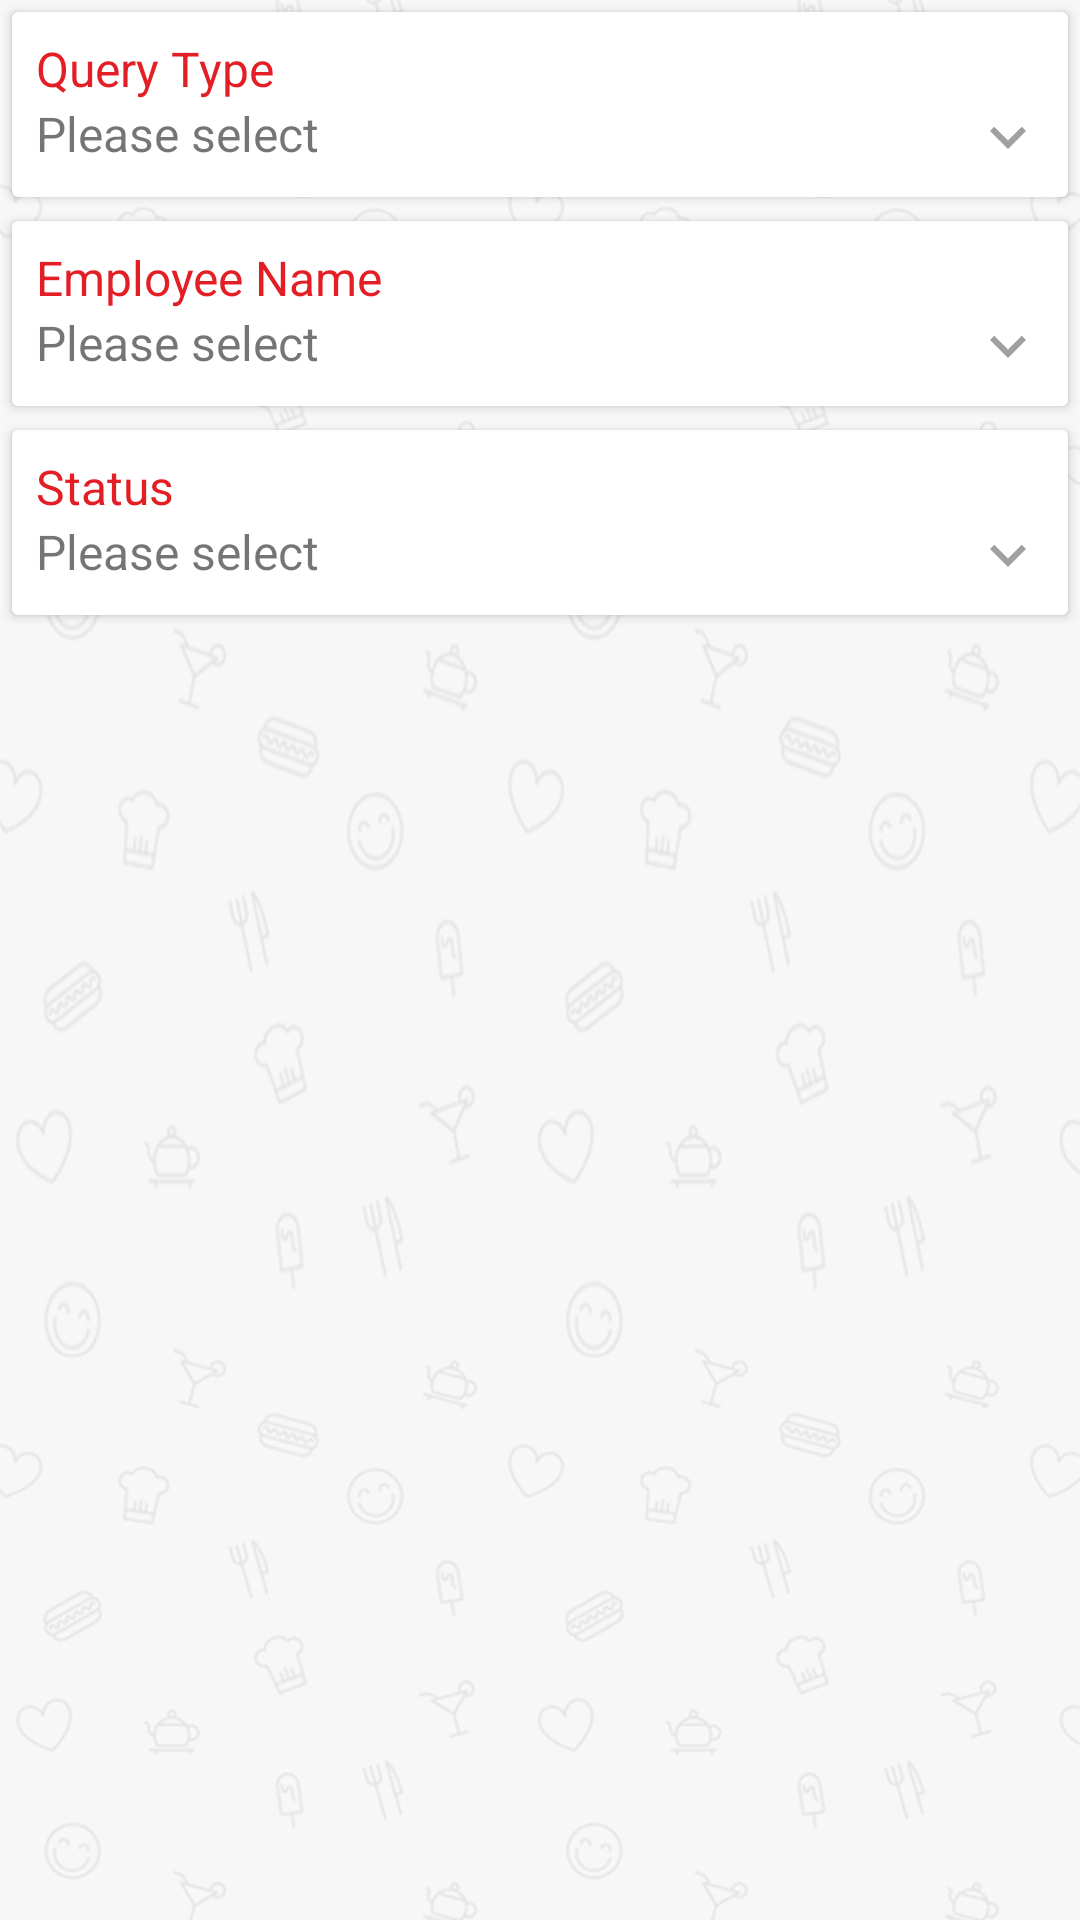

Icons on this 1080×1920 Android screen, each with its box as (x1=x1, y1=y1, x2=x2, y2=y2):
arrow down: (x1=990, y1=127, x2=1026, y2=149), (x1=990, y1=336, x2=1026, y2=358), (x1=990, y1=545, x2=1026, y2=567)
